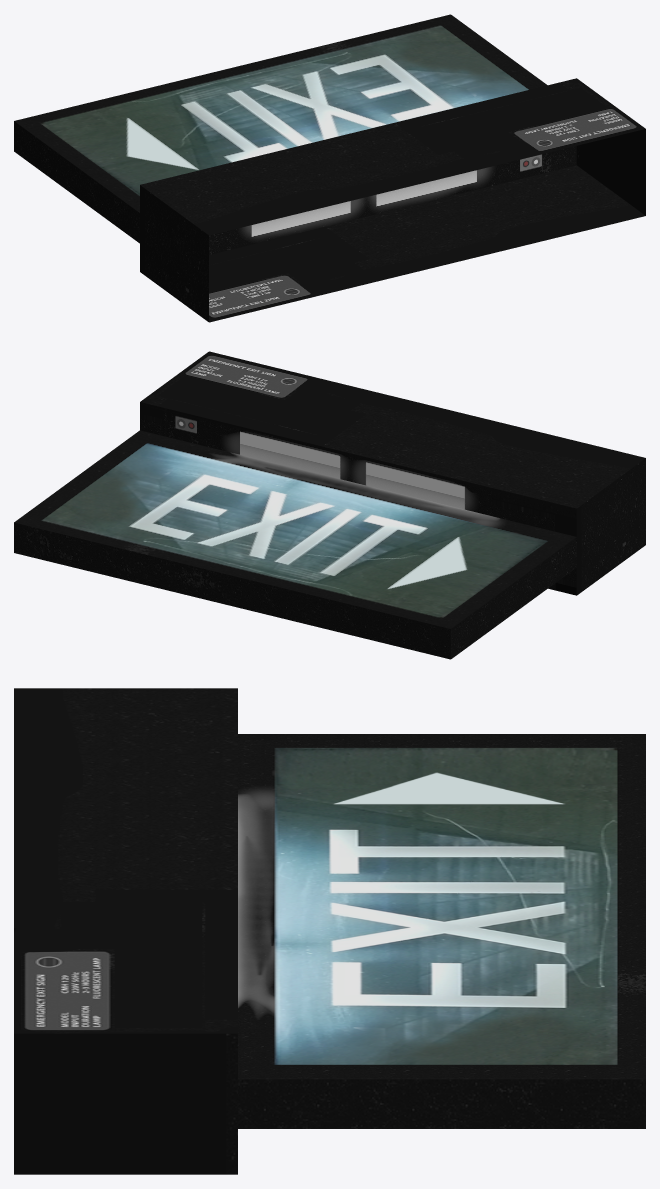
The model's file is ExitSign.obj.
The picture shows the model from 3 angles, top to bottom: view 1: azimuth 30°, elevation 25°; view 2: azimuth 150°, elevation 25°; view 3: azimuth 270°, elevation 25°; orthographic projection. The views are drawn at different scales.
Visible parts, largest first — view 1: ExitSign; view 2: ExitSign; view 3: ExitSign.
Boxes of the visible parts, <box> form: ExitSign: <box>14,14,645,322</box>; ExitSign: <box>14,351,645,659</box>; ExitSign: <box>14,688,645,1174</box>.
Size of the model in its own units: 0.3 by 0.0571 by 0.232.
1 material, 1 textured.
